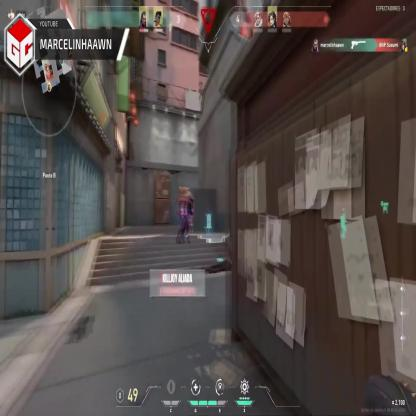enemy: (177, 185, 186, 239), (186, 190, 194, 226)
enemy_head: (186, 187, 191, 195), (180, 186, 184, 195)
